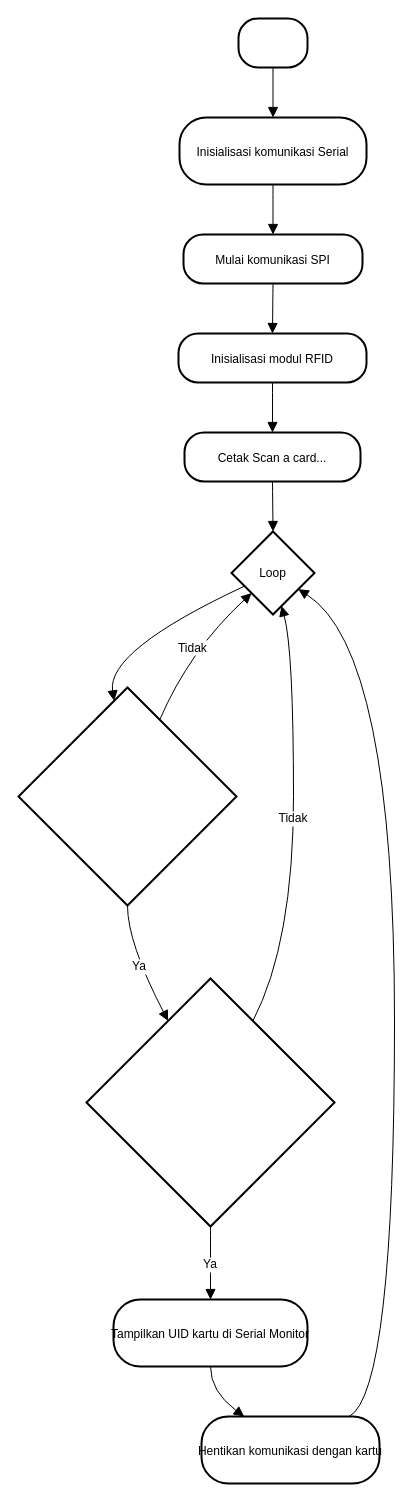
The diagram is 412 pixels wide and 1501 high, and some of its shapes have lost their labels. Here are the shapes that lost their labels. From the top down, the box of each, then its label:
(237, 17, 308, 68): Mulai
(17, 686, 237, 906): Apakah ada kartu baru?
(85, 977, 335, 1227): Apakah kartu dapat dibaca?
